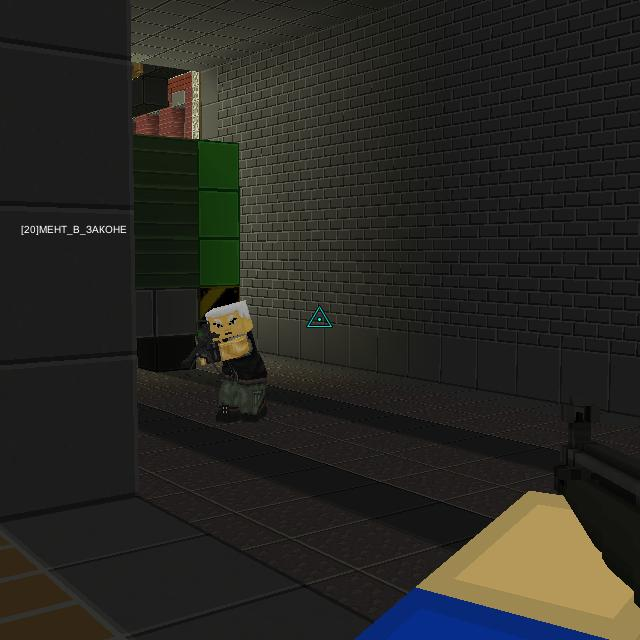enemy: (196, 300, 273, 424)
